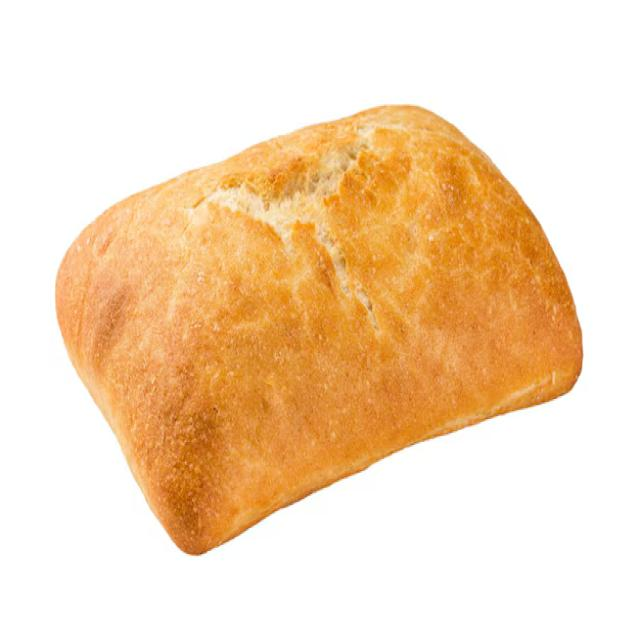Ciabatta: (56, 105, 583, 556)
